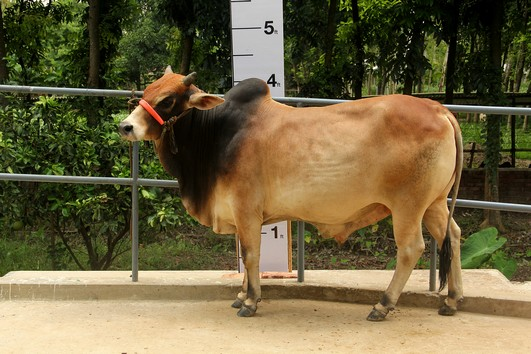cow: (109, 57, 475, 325)
